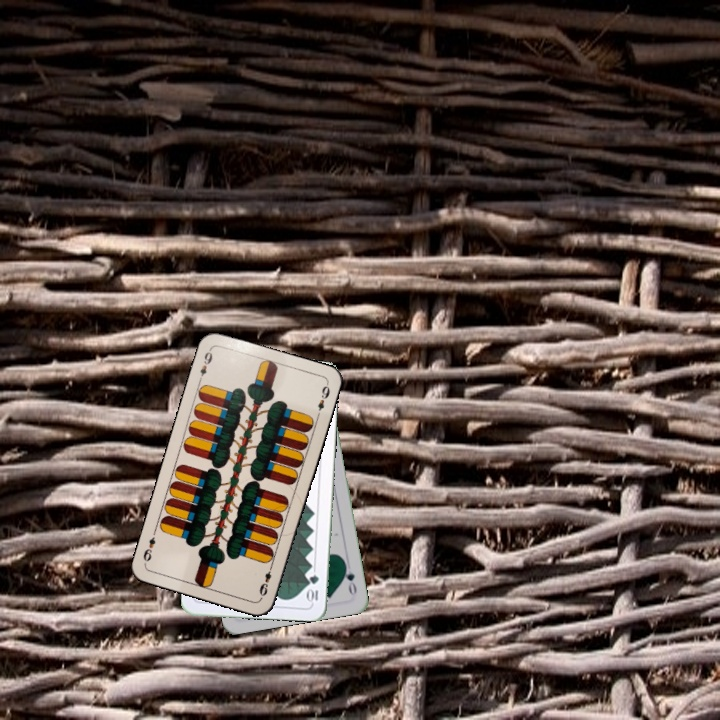E9: (195, 345, 215, 385), (255, 561, 275, 600)
G10: (305, 571, 321, 604)
GO: (340, 558, 359, 598)
